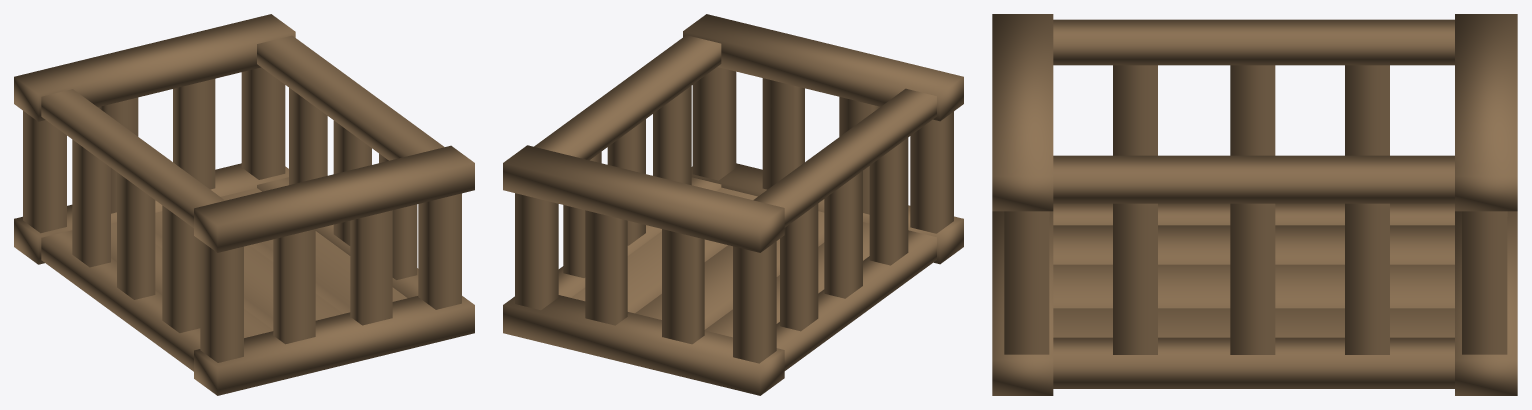
The model's file is rpgpp_ag_crate_03a.fbx.
3 views of the same model, side by side, from view 1: azimuth 30°, elevation 25°; view 2: azimuth 150°, elevation 25°; view 3: azimuth 270°, elevation 25° (orthographic). The views are drawn at different scales.
Parts seen in each view (by area): view 1: rpgpp_ag_crate_03a; view 2: rpgpp_ag_crate_03a; view 3: rpgpp_ag_crate_03a.
Part boxes in pixels (x1,y1,x2,y2): rpgpp_ag_crate_03a: [14, 14, 474, 395]; rpgpp_ag_crate_03a: [503, 14, 963, 395]; rpgpp_ag_crate_03a: [992, 14, 1517, 395].
Bounding box in the file's own units: 0.6107 × 0.386 × 0.8366.
